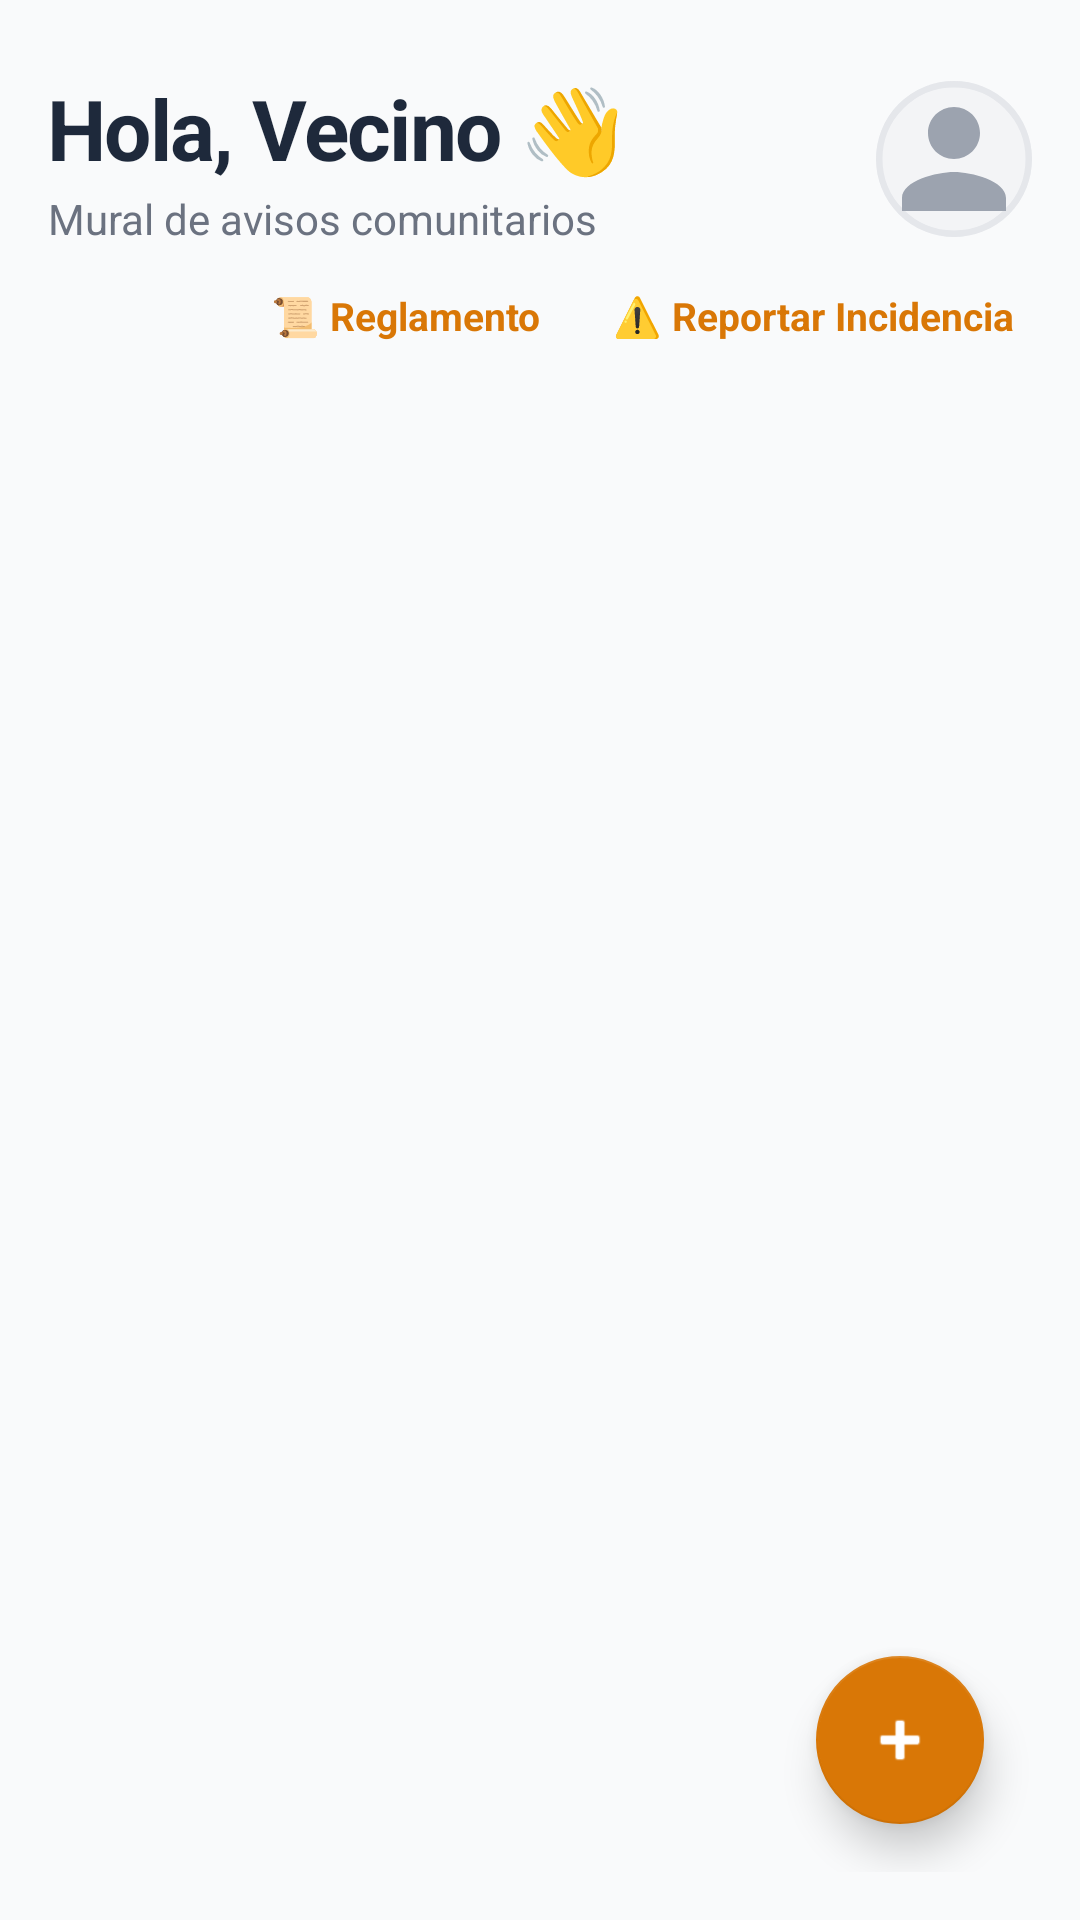

Where to tap for icons on this 1080px×1920px app screen, as (x=x, y=y):
Nuevo Aviso: (x=900, y=1740)
